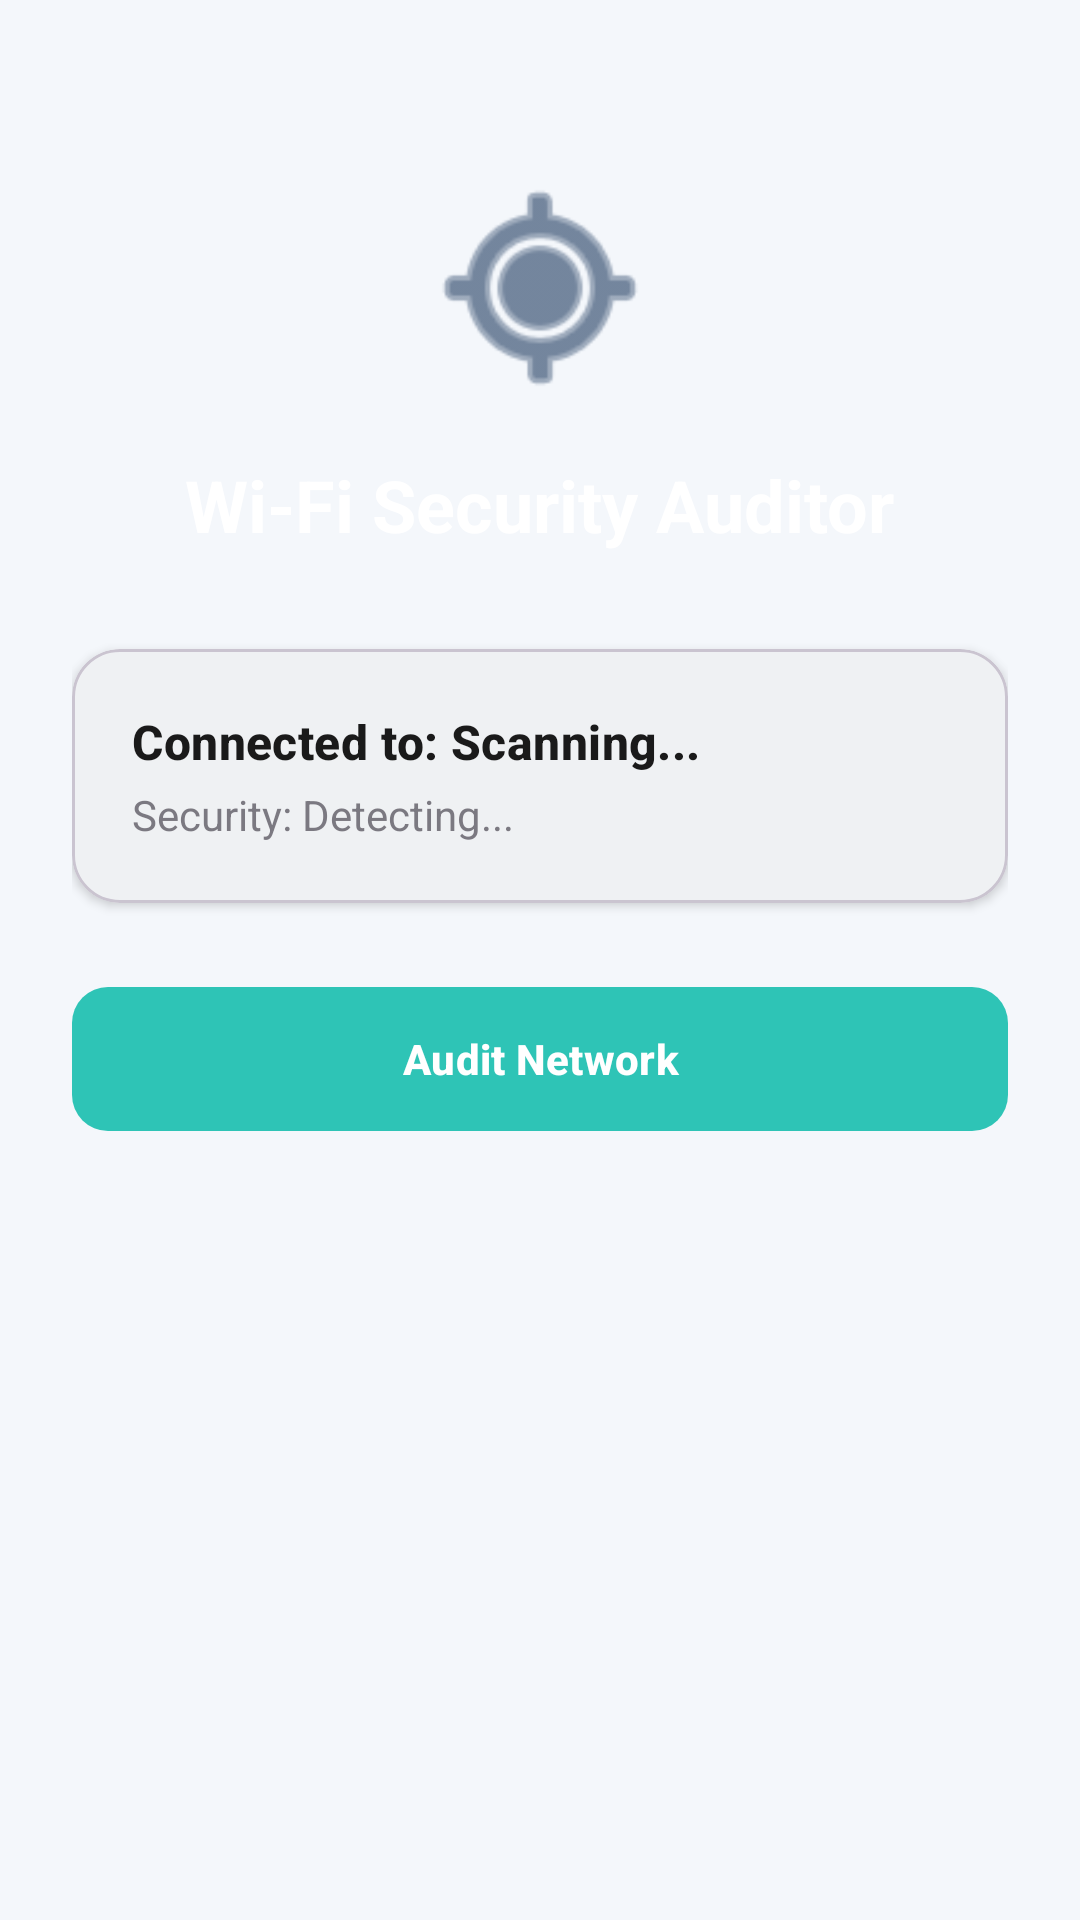

Icon click points for this 1080 × 1920 phone screenshot, format (x=x, y=y):
mylocation: (x=540, y=288)
